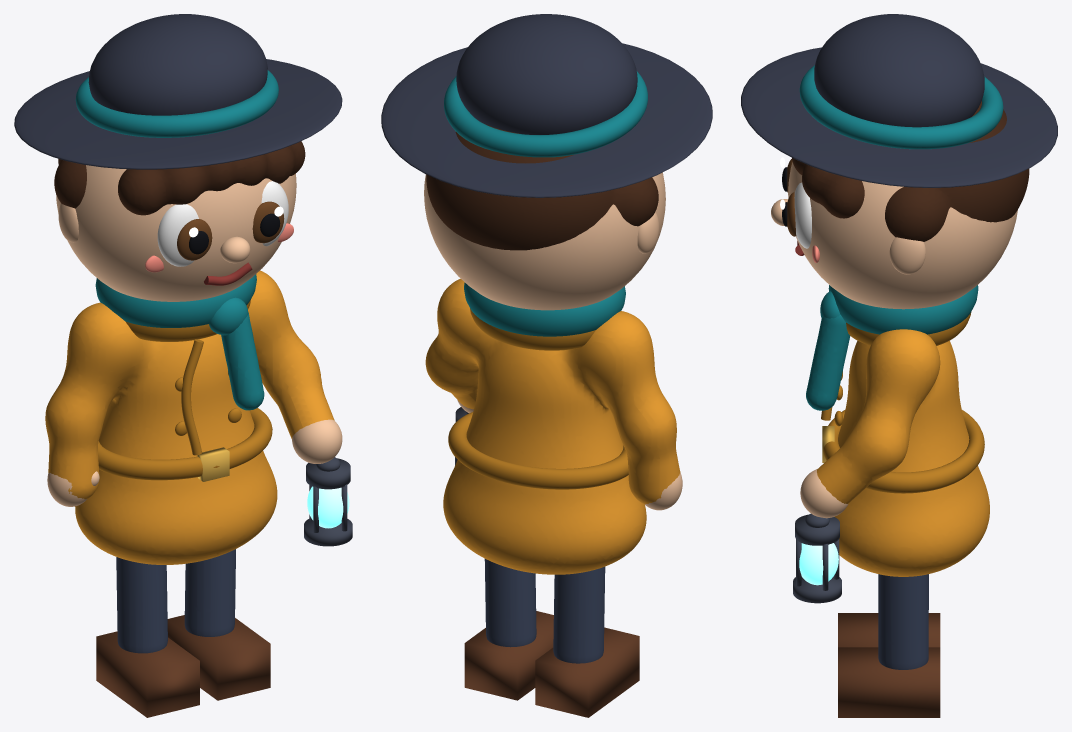
The model's file is theo.glb.
3 views of the same model, side by side, from view 1: azimuth 30°, elevation 25°; view 2: azimuth 150°, elevation 25°; view 3: azimuth 270°, elevation 25° (orthographic).
Visible parts, largest first — view 1: Coat.001, Sphere.025, Sphere.011, Sphere.026, Legs.001, Hair.001, Cube, Cube.001, Torus.003, Torus.002, Torus, ScarfEnd.001 (+15 smaller); view 2: Coat.001, Sphere.025, Sphere.026, Sphere.011, Hair.001, Legs.001, Cube, Torus.003, Cube.001, Torus, Torus.002, Torus.001 (+2 smaller); view 3: Coat.001, Sphere.025, Sphere.026, Sphere.011, Hair.001, Cube.001, Torus.003, Legs.001, Torus.002, Torus, ScarfEnd.001, Cube (+7 smaller).
Boxes of the visible parts, <box> form: Coat.001: <box>45,270,334,564</box>; Sphere.025: <box>14,59,342,169</box>; Sphere.011: <box>56,165,296,301</box>; Sphere.026: <box>88,14,267,115</box>; Legs.001: <box>116,549,235,653</box>; Hair.001: <box>54,141,305,215</box>; Cube: <box>96,631,199,717</box>; Cube.001: <box>167,615,270,700</box>; Torus.003: <box>75,70,278,137</box>; Torus.002: <box>95,274,256,327</box>; Torus: <box>98,408,272,480</box>; ScarfEnd.001: <box>221,312,264,410</box>; Coat.001: <box>425,278,680,574</box>; Sphere.025: <box>381,43,712,197</box>; Sphere.026: <box>456,14,637,134</box>; Sphere.011: <box>424,172,665,310</box>; Hair.001: <box>426,124,658,250</box>; Legs.001: <box>484,559,605,663</box>; Cube: <box>535,627,639,717</box>; Torus.003: <box>444,71,647,157</box>; Cube.001: <box>464,611,553,700</box>; Torus: <box>448,412,628,489</box>; Torus.002: <box>464,282,625,336</box>; Torus.001: <box>470,308,595,350</box>; Coat.001: <box>817,329,989,576</box>; Sphere.025: <box>741,47,1057,187</box>; Sphere.026: <box>814,14,984,127</box>; Sphere.011: <box>788,162,1017,309</box>; Hair.001: <box>792,101,1029,241</box>; Cube.001: <box>838,647,940,717</box>; Torus.003: <box>799,65,1003,149</box>; Legs.001: <box>878,574,928,669</box>; Torus.002: <box>828,285,978,334</box>; Torus: <box>823,410,984,493</box>; ScarfEnd.001: <box>806,315,850,410</box>; Cube: <box>838,613,940,647</box>.
Size of what is drawn, in the model's own units: 0.8185 by 1.78 by 0.7737.
